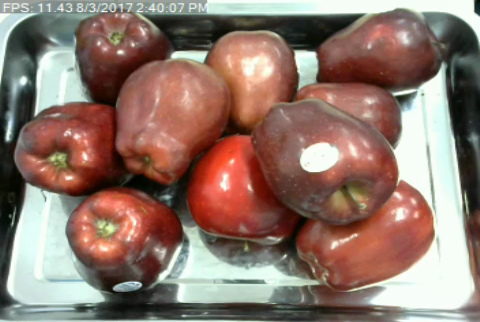Apple: (250, 96, 402, 228), (291, 174, 439, 295), (111, 55, 237, 188), (63, 186, 187, 296), (185, 133, 303, 248), (313, 3, 445, 101), (14, 97, 137, 200), (201, 26, 302, 135), (71, 7, 174, 104)
